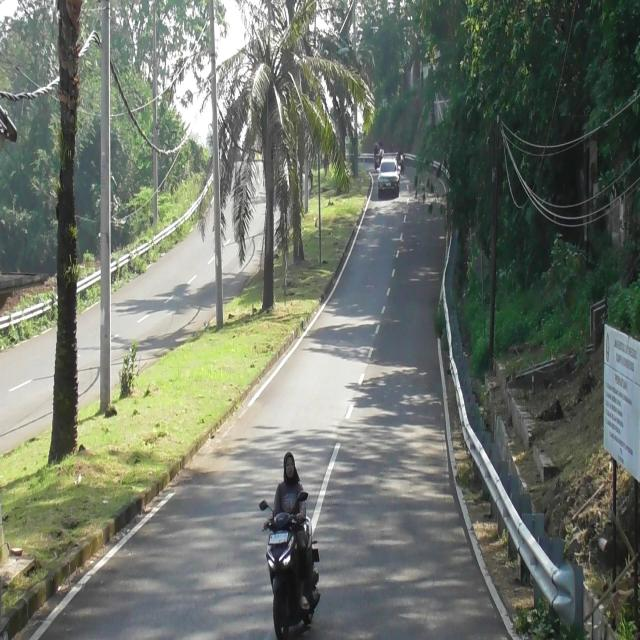motorcycle: (257, 497, 320, 631)
person: (265, 454, 308, 553)
rider_region: (262, 453, 318, 638)
